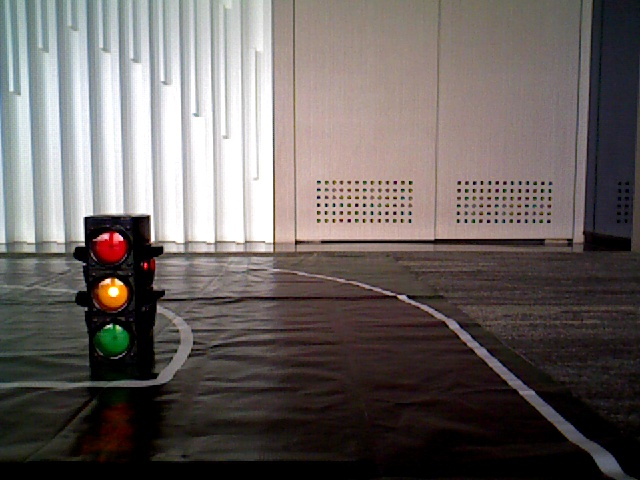yellow: (87, 221, 143, 363)
